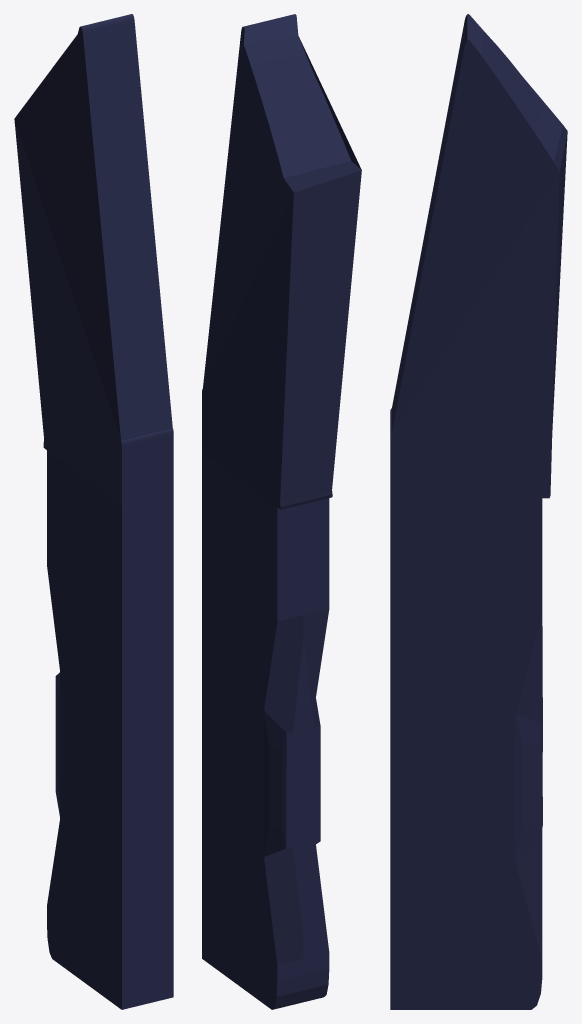
File: Knife.glb
The picture shows the model from 3 angles, left to right: view 1: azimuth 30°, elevation 25°; view 2: azimuth 210°, elevation 25°; view 3: azimuth 270°, elevation 25°; orthographic projection.
Visible parts, largest first — view 1: Cube; view 2: Cube; view 3: Cube.
Boxes of the visible parts, <box> form: Cube: <box>14,14,173,1009</box>; Cube: <box>202,14,361,1009</box>; Cube: <box>390,14,567,1009</box>.
Bounding box in the file's own units: 0.4055 × 4.95 × 0.8218.
